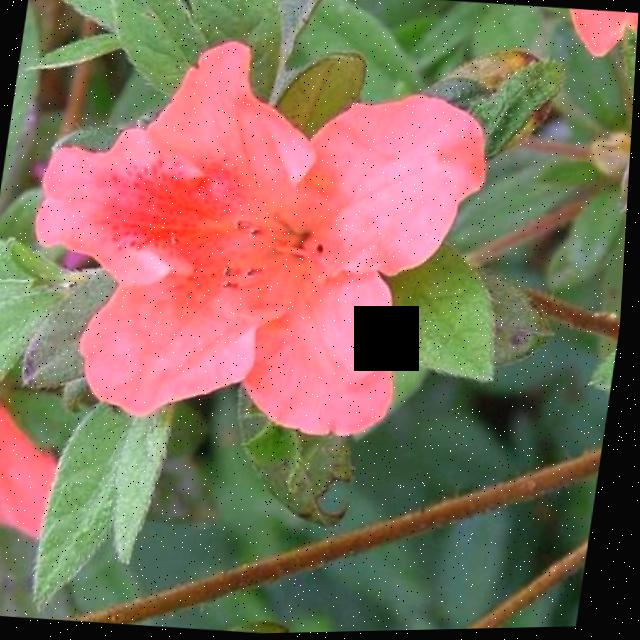azalea: (0, 13, 519, 490)
